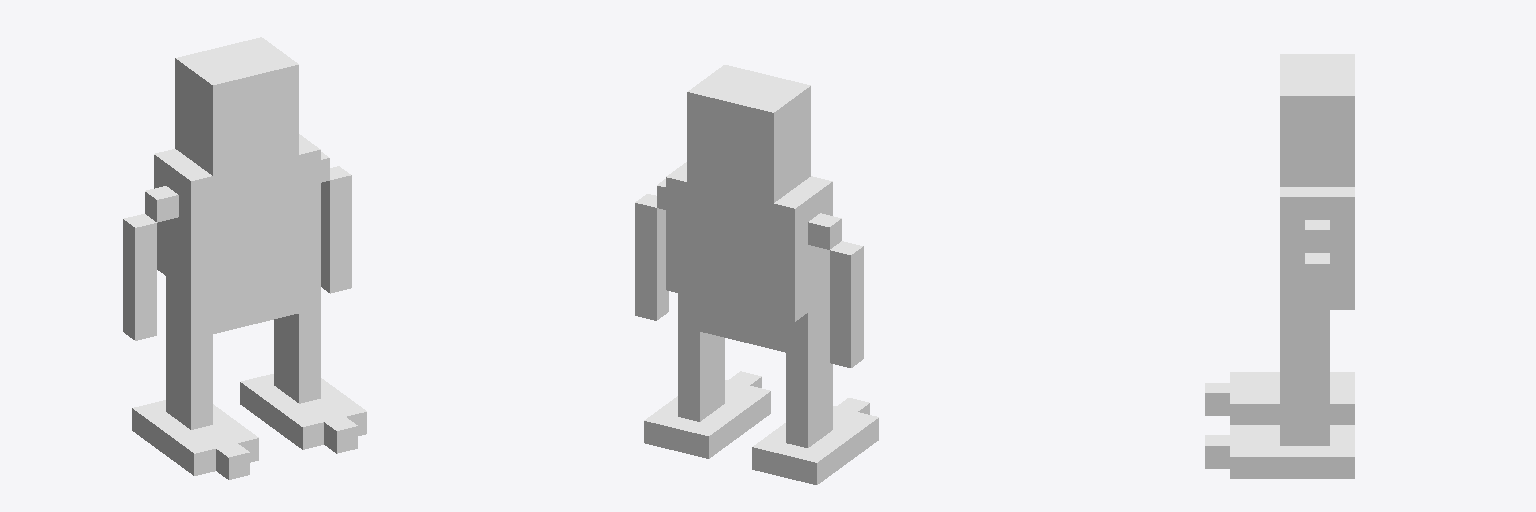
The model's file is waterman.obj.
The picture shows the model from 3 angles: view 1: azimuth 30°, elevation 25°; view 2: azimuth 150°, elevation 25°; view 3: azimuth 270°, elevation 25°; orthographic projection.
Parts seen in each view (by area): view 1: object 1; view 2: object 1; view 3: object 1.
Boxes of the visible parts, x1=… form: object 1: x1=123, y1=37, x2=366, y2=479; object 1: x1=635, y1=65, x2=878, y2=484; object 1: x1=1205, y1=54, x2=1354, y2=478.
Size of the model in its own units: 1 by 1.6 by 0.6.